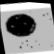correct: (2, 9, 40, 41)
